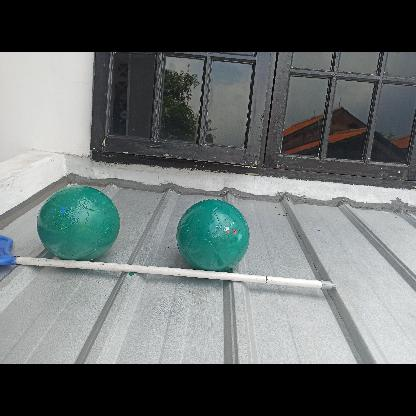green_ball: (38, 181, 120, 263), (179, 198, 252, 272)
